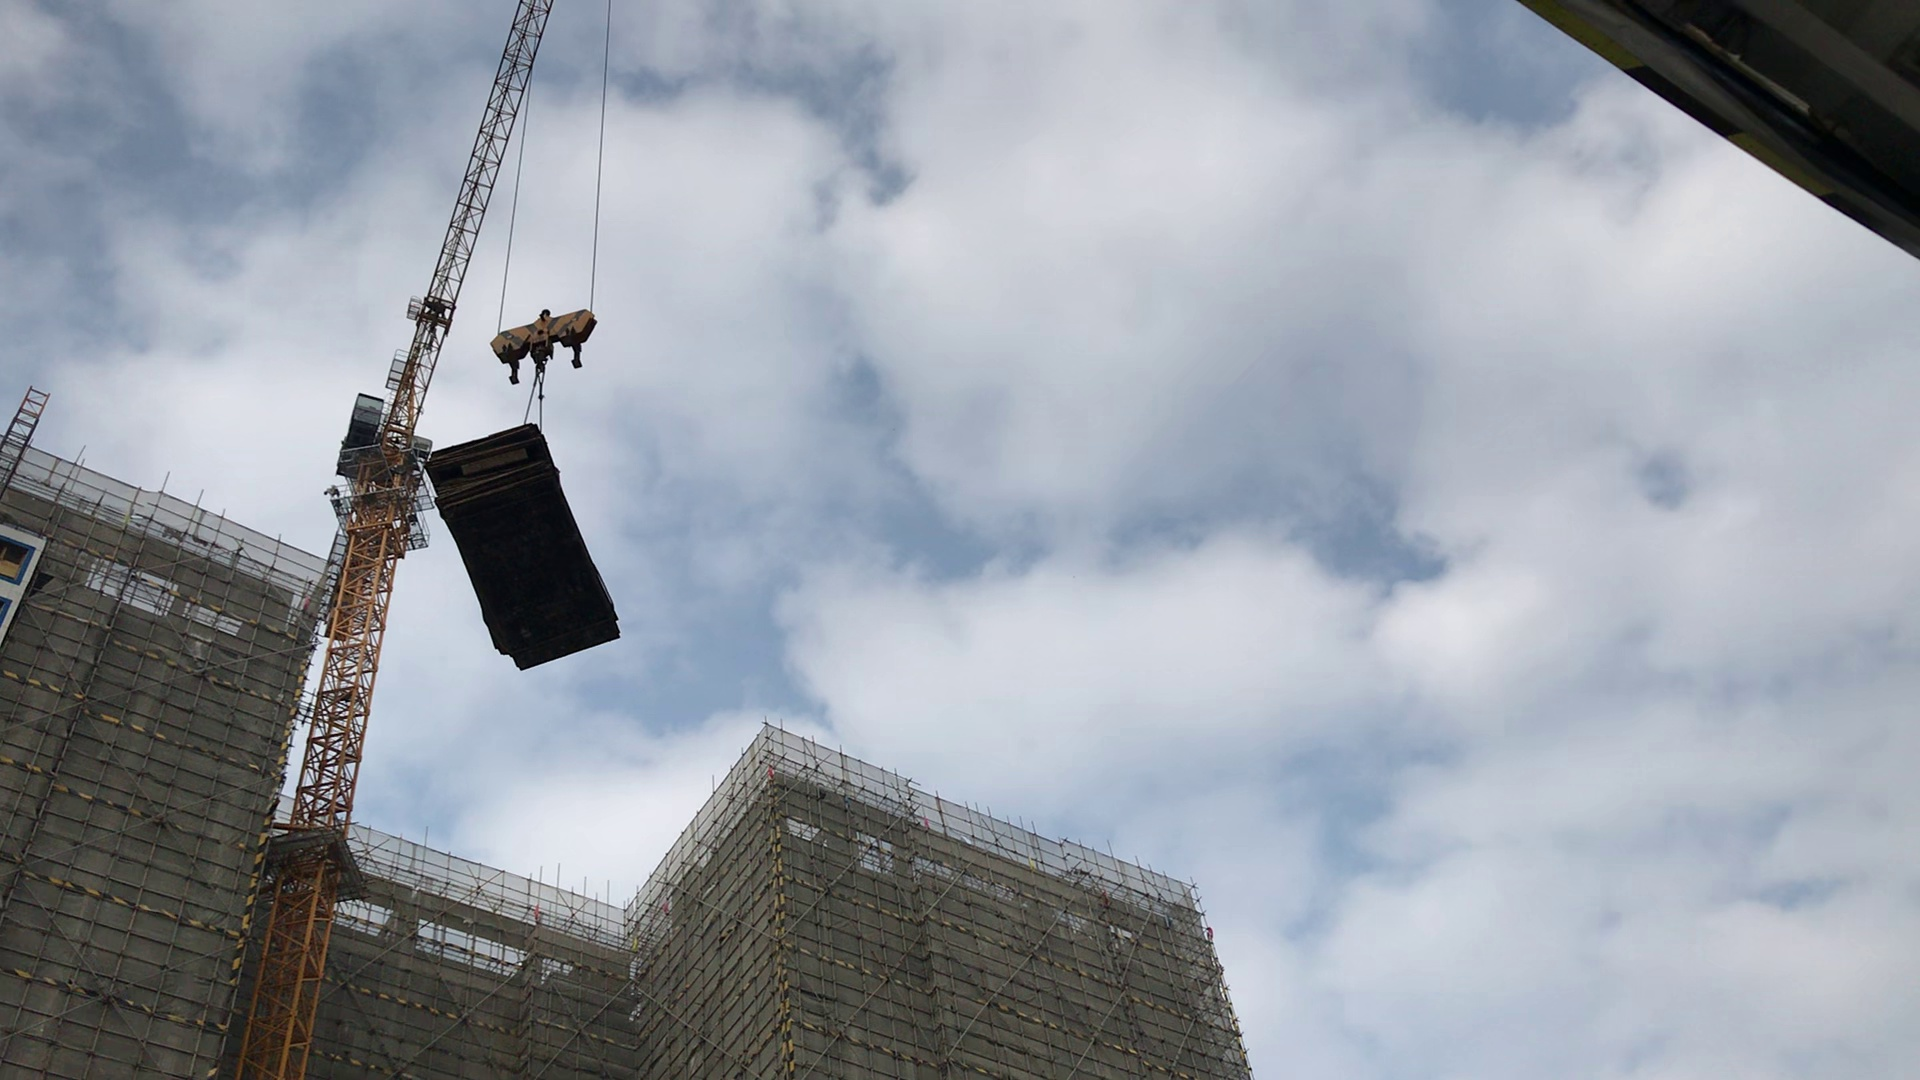board: (418, 421, 622, 679)
hook: (491, 306, 597, 386)
